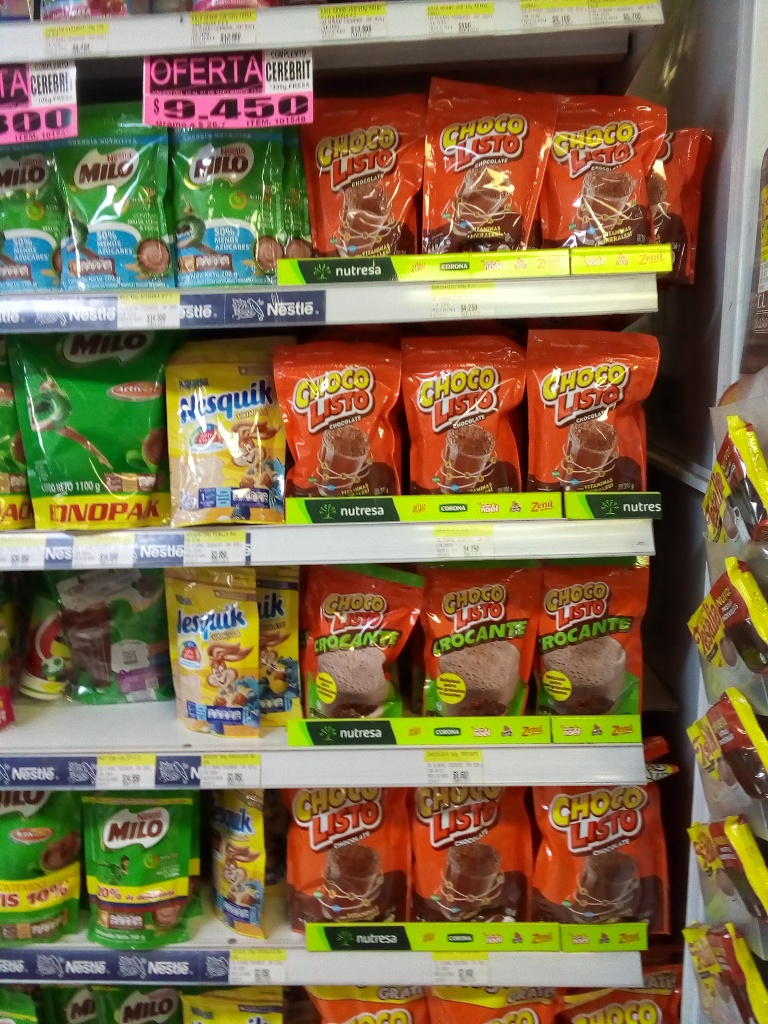COL0170102DYP25000: (295, 566, 417, 715)
COL0170103DYP20000: (281, 326, 399, 495)
COL0170203DYP25000: (86, 802, 203, 953)
COL0170203DYP50000: (57, 576, 174, 704)
COL0170205DYP20000: (3, 108, 63, 293)
COL0170306DYP20000: (151, 568, 254, 736)
